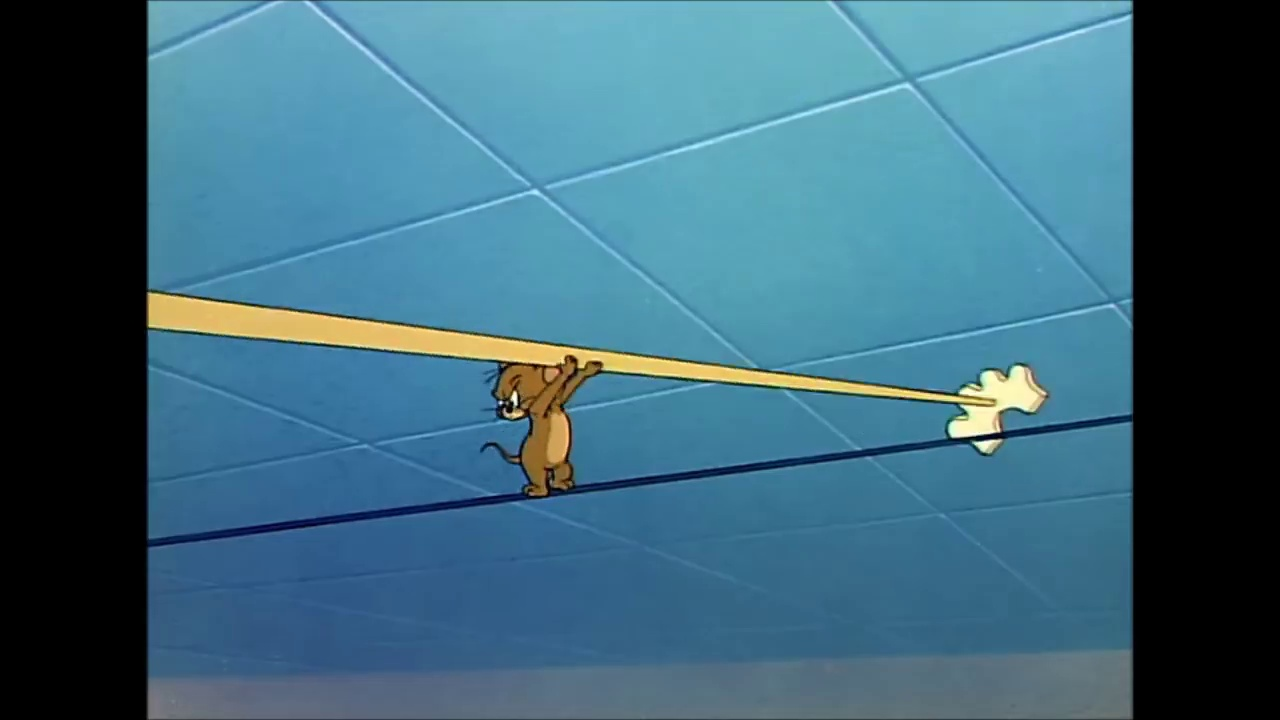angry: (491, 373, 530, 420)
